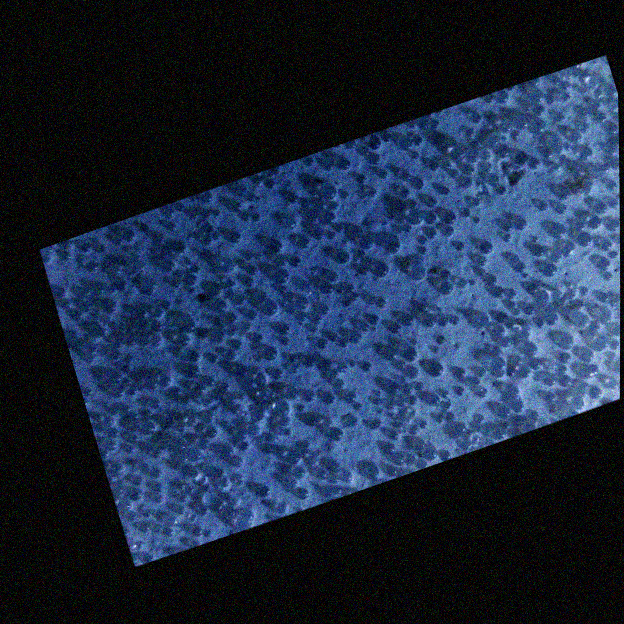GrassBeadSeg: (150, 132, 577, 409), (86, 315, 582, 547), (64, 239, 526, 460), (287, 131, 583, 433), (61, 201, 569, 374), (55, 287, 601, 440), (145, 199, 585, 388), (198, 292, 577, 510), (188, 190, 561, 411), (296, 163, 610, 423), (149, 249, 483, 478), (239, 224, 572, 450), (308, 202, 568, 490), (61, 250, 366, 492), (163, 246, 619, 404), (123, 235, 613, 378), (186, 244, 546, 428), (159, 177, 474, 387), (124, 189, 333, 503), (263, 272, 613, 453), (231, 281, 562, 466), (94, 287, 393, 485), (288, 145, 532, 373), (286, 227, 520, 464), (99, 236, 540, 360), (329, 293, 610, 484), (263, 201, 423, 513), (67, 289, 346, 464), (170, 279, 421, 468), (107, 305, 331, 513), (248, 197, 438, 435), (150, 242, 576, 346), (280, 211, 498, 413), (254, 208, 513, 371), (389, 201, 607, 394), (130, 248, 381, 409), (212, 206, 541, 325), (343, 258, 607, 403), (258, 358, 544, 491), (171, 313, 380, 483), (183, 319, 440, 457), (114, 315, 546, 397), (410, 144, 566, 367), (305, 263, 549, 403), (393, 200, 581, 374), (298, 395, 603, 500), (95, 283, 317, 426), (281, 315, 560, 425), (82, 259, 487, 331), (342, 231, 466, 455), (250, 241, 367, 478), (105, 332, 339, 450), (317, 226, 537, 345), (257, 265, 370, 496), (237, 306, 428, 439), (292, 298, 403, 478), (277, 215, 439, 335), (147, 256, 289, 388), (162, 261, 437, 326), (276, 375, 438, 478), (79, 264, 426, 312), (286, 322, 384, 489), (406, 233, 512, 378), (439, 256, 533, 417), (111, 325, 318, 397), (329, 239, 401, 440), (46, 245, 167, 357), (217, 343, 319, 475), (328, 349, 437, 472), (289, 376, 583, 419), (426, 213, 611, 279), (222, 359, 405, 425), (388, 322, 572, 387), (483, 87, 617, 171), (376, 312, 489, 407), (507, 289, 587, 420), (396, 312, 481, 431), (324, 358, 423, 448), (175, 192, 256, 293), (239, 311, 309, 419), (237, 364, 558, 386), (173, 379, 266, 451), (80, 287, 149, 383), (168, 171, 274, 230), (400, 119, 479, 196), (308, 320, 368, 421), (288, 145, 369, 219), (347, 331, 592, 355), (95, 261, 146, 375), (436, 314, 524, 374), (307, 152, 381, 223), (373, 397, 447, 468), (72, 248, 124, 346), (153, 388, 198, 501), (248, 226, 365, 269), (466, 325, 506, 447), (442, 118, 505, 194), (453, 92, 509, 177), (193, 364, 531, 378), (384, 218, 527, 251), (485, 262, 526, 375), (145, 251, 260, 290), (362, 128, 426, 196), (450, 386, 519, 447), (575, 101, 618, 195), (193, 215, 262, 273), (266, 346, 335, 402), (283, 428, 353, 483), (437, 342, 507, 397), (397, 390, 449, 464), (178, 301, 274, 337), (351, 359, 399, 425), (578, 232, 618, 308), (502, 396, 586, 432), (241, 409, 311, 451), (369, 407, 512, 427), (410, 413, 467, 463), (338, 228, 362, 346), (456, 325, 497, 394), (280, 323, 315, 402), (513, 264, 557, 326), (318, 358, 371, 409), (408, 118, 446, 189), (235, 265, 259, 377), (195, 200, 261, 240), (255, 159, 315, 203), (221, 345, 279, 390), (344, 138, 467, 159), (550, 350, 596, 403), (548, 94, 610, 132), (62, 244, 143, 272), (339, 154, 388, 198), (536, 250, 563, 327), (82, 223, 150, 253), (549, 250, 584, 307), (474, 161, 506, 223), (574, 163, 619, 207), (96, 308, 136, 357), (336, 267, 425, 289), (95, 315, 249, 327), (460, 185, 572, 201), (236, 300, 287, 335), (332, 370, 413, 392), (510, 91, 547, 138), (230, 173, 275, 211), (154, 206, 200, 242), (543, 132, 585, 170), (470, 280, 507, 323), (390, 430, 425, 475), (579, 122, 618, 159), (389, 451, 451, 474), (286, 199, 335, 228), (190, 495, 224, 536), (106, 316, 131, 371), (276, 270, 309, 310), (191, 274, 287, 287), (113, 445, 134, 504), (290, 256, 312, 311), (113, 426, 202, 439), (415, 380, 440, 426), (488, 157, 519, 193), (238, 241, 279, 266), (224, 384, 275, 404), (235, 232, 320, 244), (129, 511, 149, 560), (521, 271, 550, 304), (310, 186, 328, 238), (204, 313, 238, 339), (499, 286, 545, 305), (154, 322, 190, 345), (148, 527, 171, 562), (140, 426, 218, 436), (182, 455, 225, 473), (169, 274, 190, 310), (505, 115, 544, 134), (211, 276, 252, 294), (577, 215, 602, 244), (157, 504, 182, 531), (519, 148, 552, 168), (278, 355, 309, 376), (195, 331, 218, 359), (179, 505, 201, 534), (581, 312, 611, 333), (180, 484, 224, 498), (114, 405, 130, 442), (130, 434, 142, 483), (109, 405, 138, 425), (118, 464, 135, 497), (212, 479, 230, 510), (402, 172, 424, 197), (603, 336, 613, 389), (111, 404, 151, 417), (218, 301, 265, 312), (154, 301, 171, 331), (558, 333, 574, 362), (493, 287, 509, 316), (272, 237, 310, 249), (205, 377, 216, 418), (132, 389, 144, 426), (235, 295, 258, 314), (226, 493, 248, 509), (230, 232, 240, 266), (235, 333, 263, 345), (188, 412, 215, 424), (230, 310, 257, 322), (228, 321, 252, 334), (310, 338, 327, 356), (274, 273, 288, 294), (198, 327, 222, 339), (581, 363, 599, 378), (192, 351, 219, 361), (290, 295, 305, 313), (154, 522, 173, 536), (130, 519, 150, 532), (389, 382, 409, 394), (323, 401, 332, 427), (609, 362, 618, 388), (125, 408, 154, 416), (180, 422, 186, 460), (499, 118, 514, 133), (228, 343, 244, 357), (239, 276, 247, 304), (330, 222, 343, 239), (210, 352, 237, 360), (314, 230, 339, 238), (197, 378, 209, 394), (263, 303, 279, 315), (277, 268, 289, 284), (178, 416, 197, 426), (227, 507, 246, 517), (609, 339, 619, 356), (217, 500, 229, 514), (296, 237, 303, 261), (594, 321, 601, 344), (204, 426, 211, 446), (216, 283, 221, 310), (607, 219, 619, 230), (386, 399, 399, 409), (142, 425, 156, 434), (610, 352, 617, 370), (242, 510, 254, 519), (125, 384, 137, 393), (124, 371, 131, 385), (105, 416, 115, 425), (216, 332, 226, 341), (273, 242, 283, 251), (399, 217, 405, 232), (430, 398, 441, 406), (307, 356, 315, 367), (244, 279, 255, 287), (512, 401, 520, 412), (136, 481, 143, 493), (273, 367, 280, 378), (178, 337, 186, 346), (291, 260, 301, 267), (398, 226, 412, 231), (199, 440, 206, 448), (327, 231, 335, 238), (394, 347, 398, 358), (144, 421, 155, 425), (113, 468, 120, 474), (121, 499, 125, 508), (521, 404, 526, 411), (123, 507, 131, 511), (133, 496, 141, 500), (598, 344, 608, 347), (109, 428, 112, 437), (301, 246, 307, 249)
